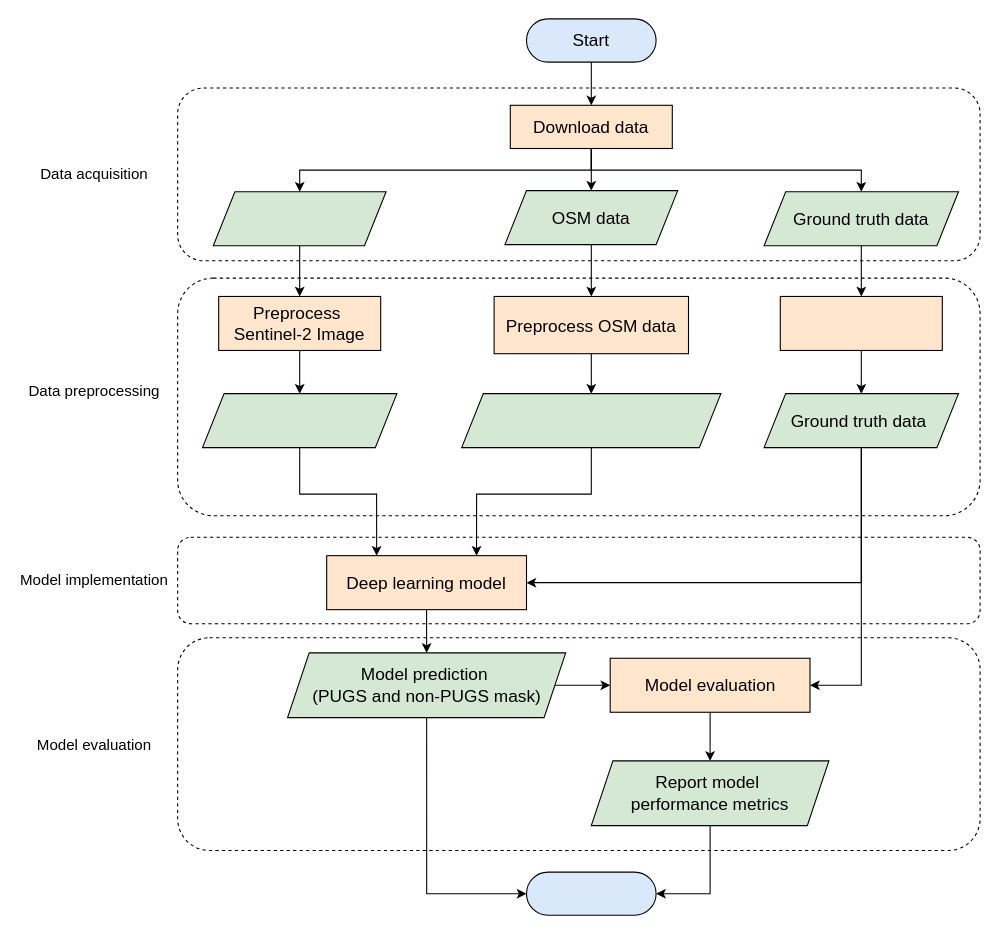
This 999x934 diagram has some shape labels left out. The shapes that lost their labels are listed below. From the top down, each one's centre as x and y in pixels, then its label:
At [299,218]: "Sentinel-2 image".
At [860,322]: "Preprocess ground truth data".
At [299,420]: "Pre-processed Sentinel-2 image".
At [591,420]: "PUGS from OSM data (PUGS binary mask and SDT raster)".
At [590,893]: "End".
